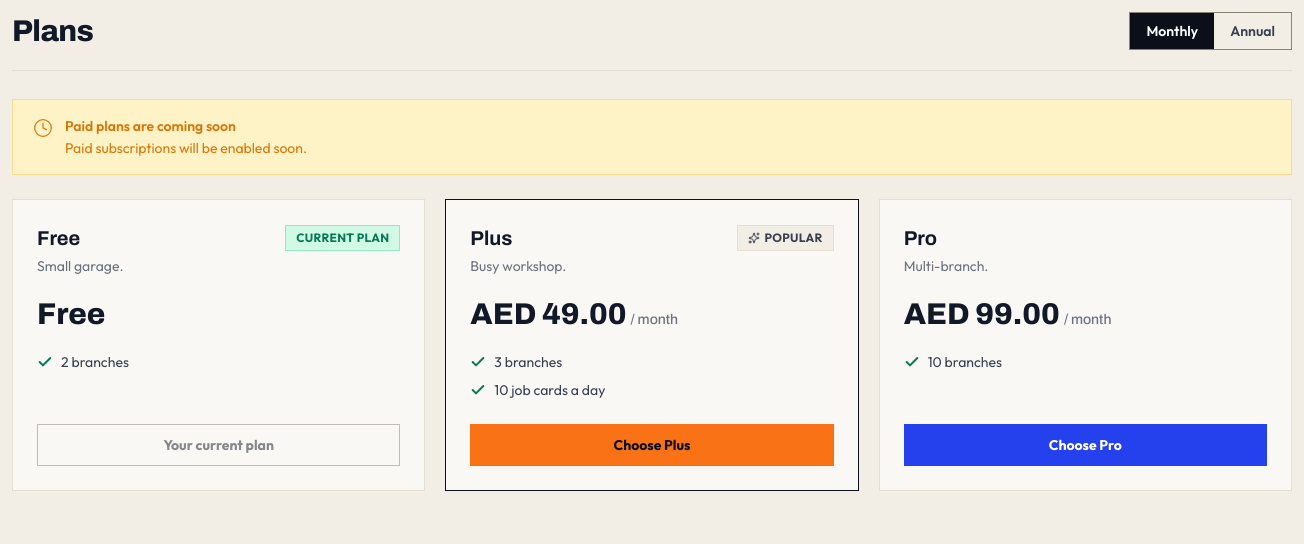
Scenario: Pricing › switches to annual prices with the toggle
Expected: the element named "Plus plan" is shown, [445, 199, 859, 491]
Step 1. Click the button "Annual" → [1253, 31], box [1214, 13, 1291, 49]
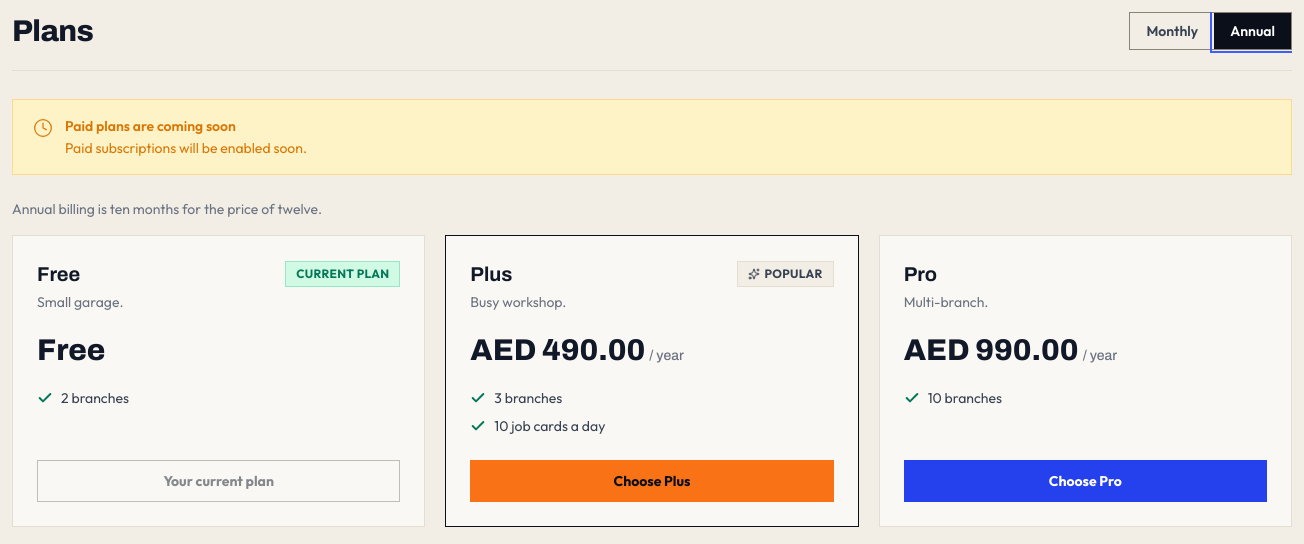
Now the text "AED 490.00/ year" is shown, box [470, 334, 684, 366]
Now the text "/ year" next to "AED 490.00" is shown, box [649, 348, 684, 363]
